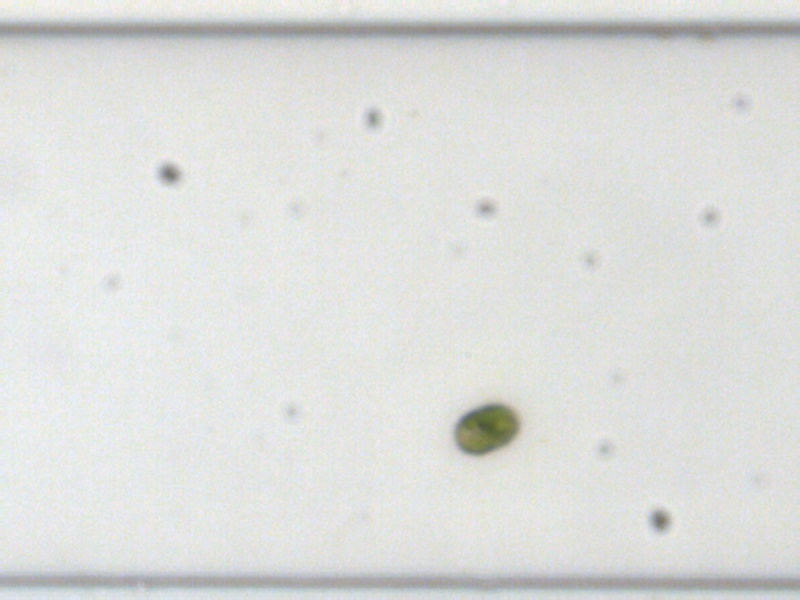Platymonas: (451, 402, 521, 456)
